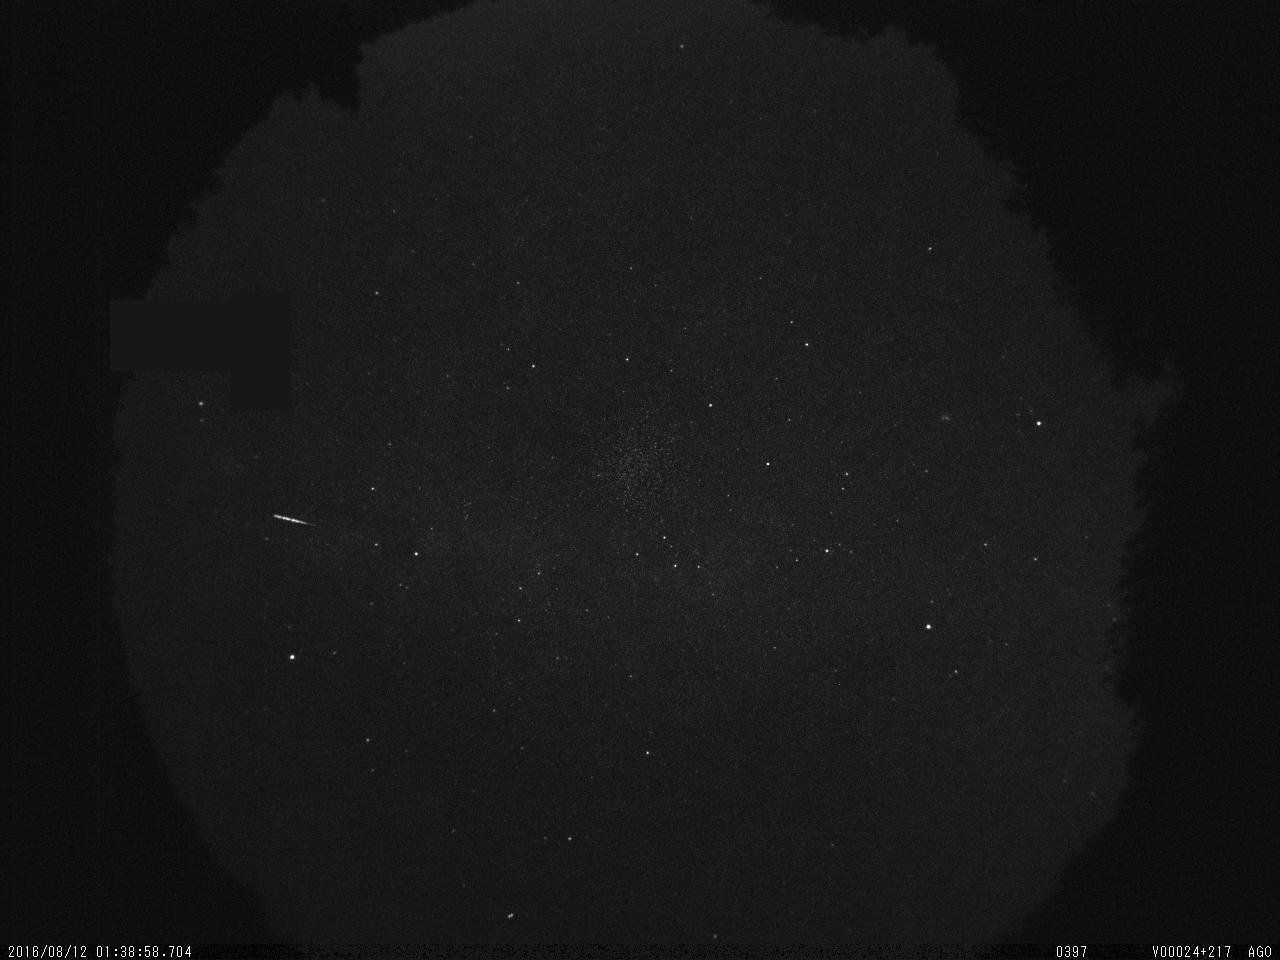Meteor: (270, 511, 316, 529)
